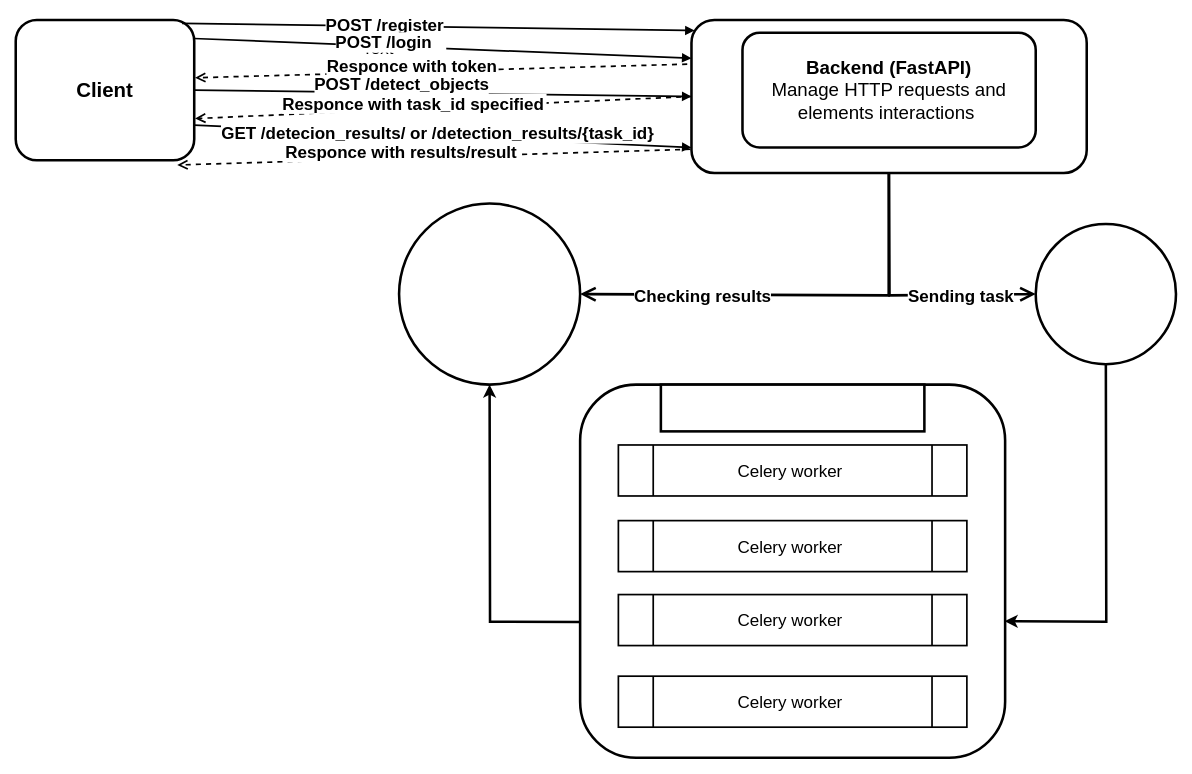
Some shapes in this 1192 by 774 pixel diagram are drawn without their labels. Each missing label, with the centre of its shape:
Celery task broker (Redis): [1105,293]
PostgreSQL DB: [489,293]
Task execution using Detectron2 or YOLOv8 by Celery: [792,407]
